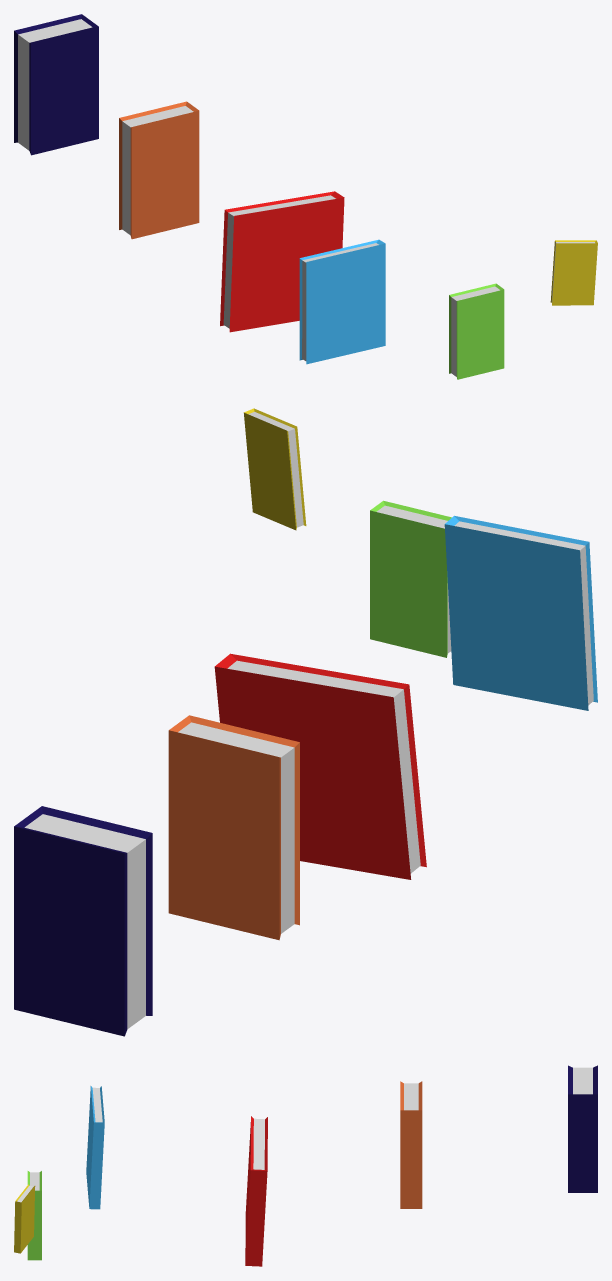
The model's file is Books.fbx.
The picture shows the model from 3 angles, top to bottom: view 1: azimuth 30°, elevation 25°; view 2: azimuth 150°, elevation 25°; view 3: azimuth 270°, elevation 25°; orthographic projection. The views are drawn at different scales.
Visible parts, largest first — view 1: Book 3, Book 1, Book 2, Book 4, Book 5, Book 6; view 2: Book 3, Book 1, Book 2, Book 4, Book 5, Book 6; view 3: Book 1, Book 2, Book 3, Book 4, Book 6, Book 5.
Boxes of the visible parts, x1=… form: Book 3: x1=220, y1=191, x2=344, y2=332; Book 1: x1=14, y1=14, x2=98, y2=155; Book 2: x1=119, y1=101, x2=199, y2=239; Book 4: x1=299, y1=239, x2=385, y2=364; Book 5: x1=449, y1=283, x2=504, y2=379; Book 6: x1=550, y1=240, x2=597, y2=305; Book 3: x1=214, y1=653, x2=426, y2=879; Book 1: x1=14, y1=806, x2=152, y2=1036; Book 2: x1=168, y1=715, x2=299, y2=940; Book 4: x1=444, y1=515, x2=597, y2=710; Book 5: x1=370, y1=500, x2=451, y2=657; Book 6: x1=243, y1=408, x2=306, y2=530; Book 1: x1=568, y1=1065, x2=597, y2=1192; Book 2: x1=400, y1=1081, x2=422, y2=1208; Book 3: x1=245, y1=1116, x2=267, y2=1266; Book 4: x1=86, y1=1086, x2=104, y2=1209; Book 6: x1=14, y1=1184, x2=35, y2=1253; Book 5: x1=27, y1=1171, x2=41, y2=1260.
Bounding box in the file's own units: 29.58 × 18.62 × 66.78.
